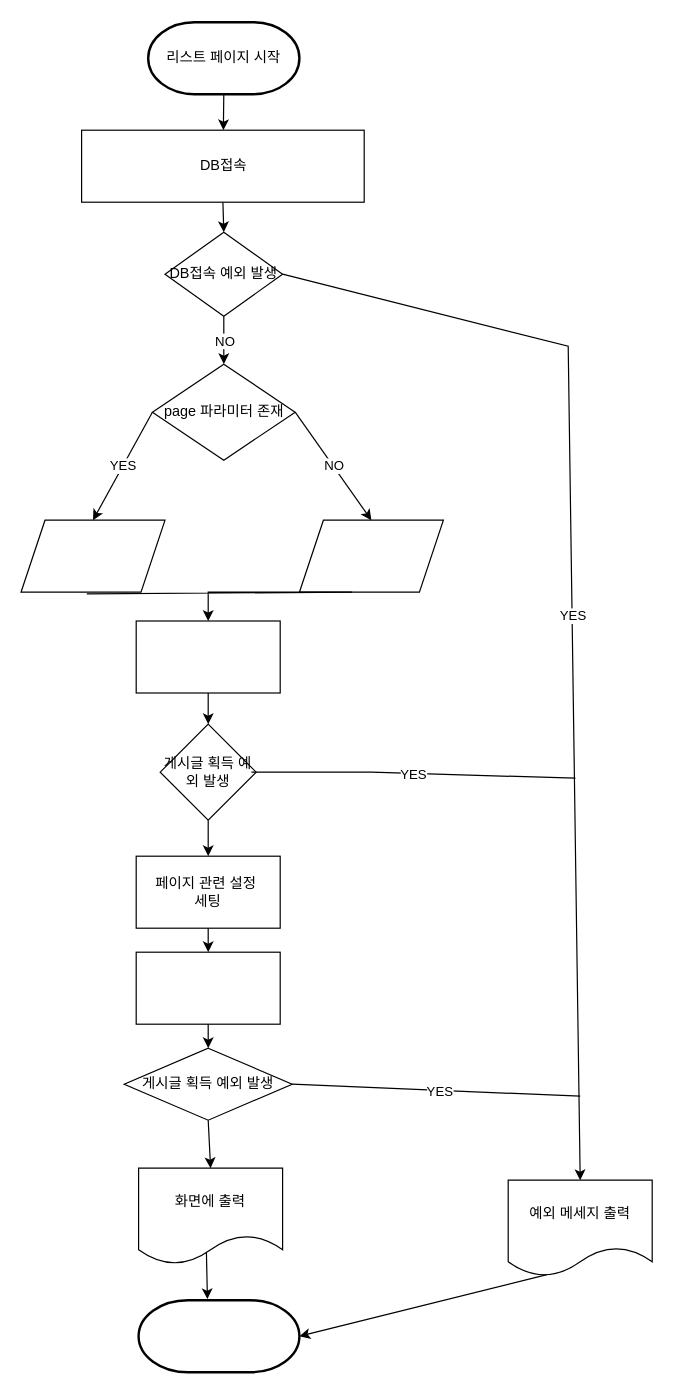
This 673x1393 diagram has some shape labels left out. Each missing label, with the box of its shape:
1 획득: (298, 519, 443, 592)
DB에서 게시글 수 획득: (135, 620, 280, 693)
DB에서 게시글 조회: (135, 951, 280, 1024)
page 획득: (20, 519, 165, 592)
리스트 페이지 종료: (137, 1298, 300, 1373)
